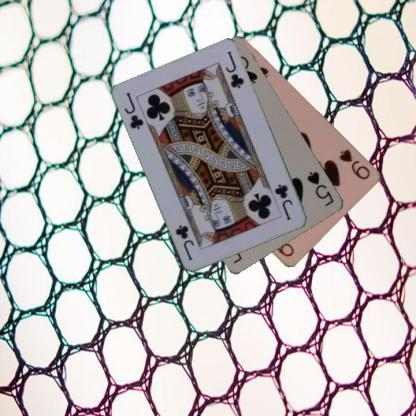5s: (304, 169, 336, 208)
9s: (336, 147, 372, 181)
Jc: (122, 90, 146, 131), (272, 181, 295, 222)
